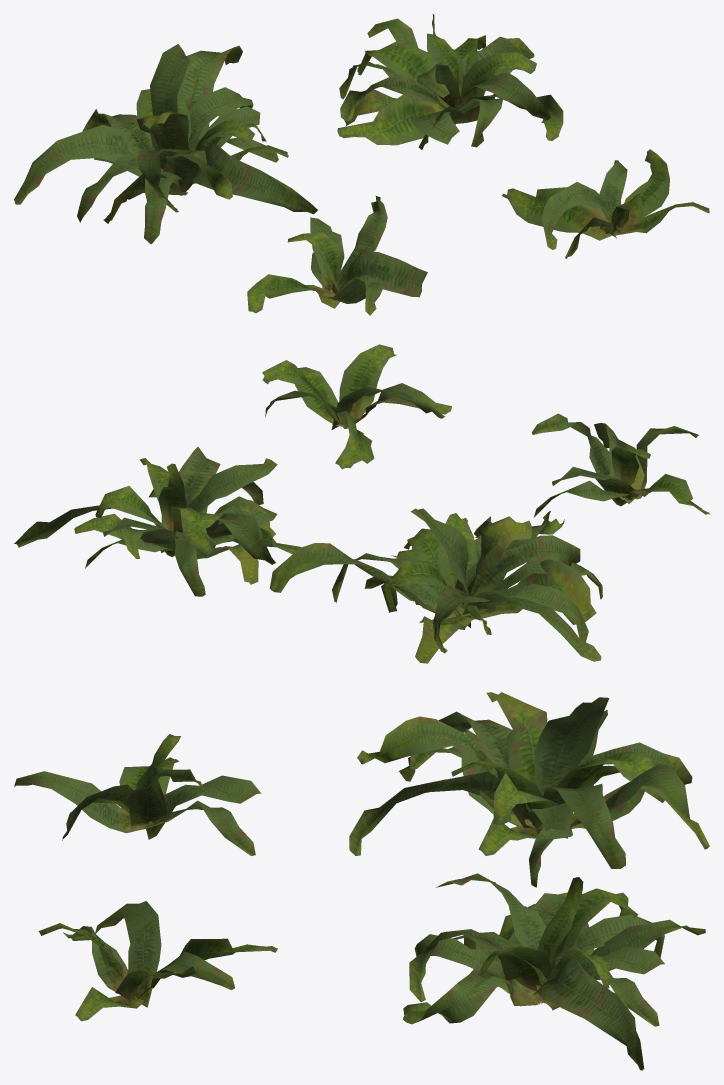
The model's file is fern_02.glb.
The picture shows the model from 3 angles, top to bottom: view 1: azimuth 30°, elevation 25°; view 2: azimuth 150°, elevation 25°; view 3: azimuth 270°, elevation 25°; orthographic projection. The views are drawn at different scales.
Visible parts, largest first — view 1: fern_02_b; view 2: fern_02_b; view 3: fern_02_b.
Boxes of the visible parts, x1=… form: fern_02_b: x1=14, y1=14, x2=709, y2=315; fern_02_b: x1=14, y1=344, x2=709, y2=663; fern_02_b: x1=14, y1=692, x2=709, y2=1070.
Bounding box in the file's own units: 1.97 × 0.4277 × 1.72.
1 material, 1 textured.
